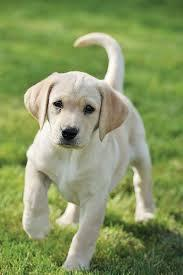Dog: (23, 70, 130, 151)
